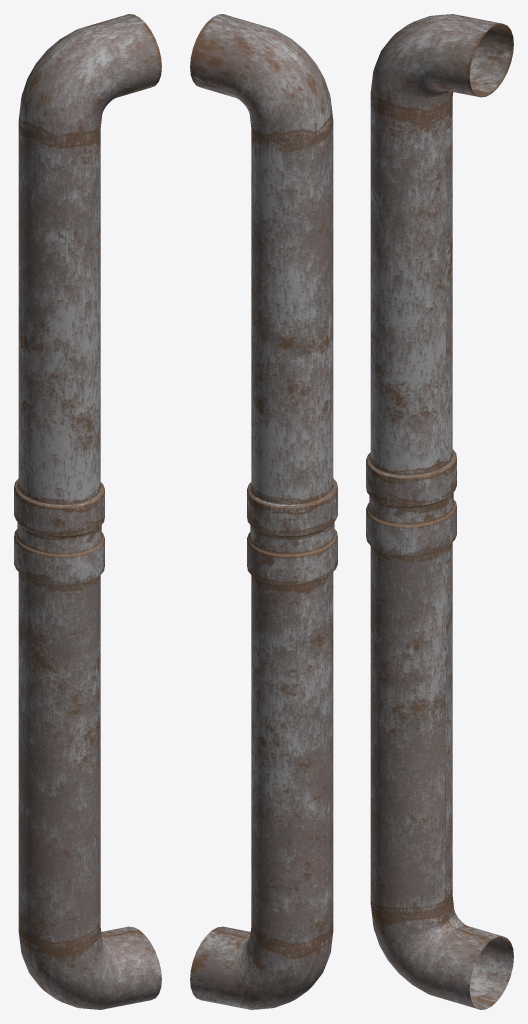
File: SM_pipe_b.fbx
3 renders of one model, left to right at view 1: azimuth 30°, elevation 25°; view 2: azimuth 150°, elevation 25°; view 3: azimuth 330°, elevation 25°, orthographic.
Visible parts, largest first — view 1: SM_pipe_b_LOD0; view 2: SM_pipe_b_LOD0; view 3: SM_pipe_b_LOD0.
Boxes of the visible parts, left/top/right/bottom form: SM_pipe_b_LOD0: left=14, top=14, right=161, bottom=1009; SM_pipe_b_LOD0: left=190, top=14, right=337, bottom=1009; SM_pipe_b_LOD0: left=366, top=14, right=513, bottom=1009.
Size of the model in its own units: 27.87 by 19.99 by 220.
